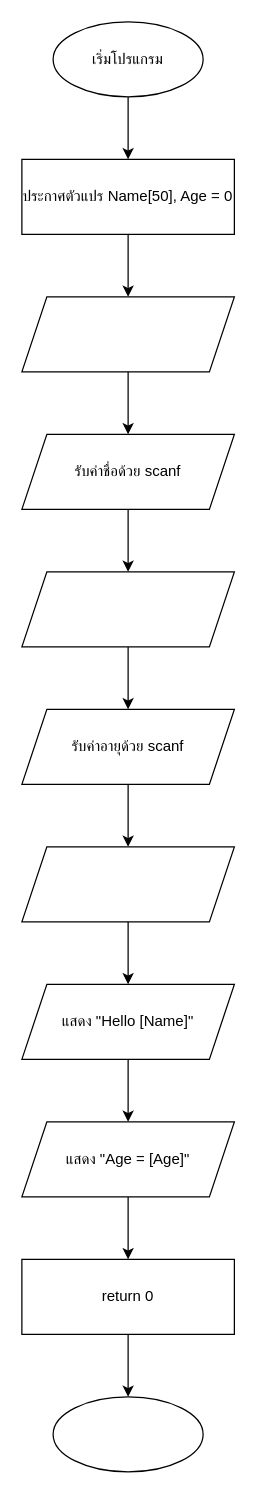
Some shapes in this 256 by 1494 pixel diagram are drawn without their labels. The centre of each missing label's shape, as x and y in pixels:
จบโปรแกรม: the point at 127,1434
แสดง "- - - - - -": the point at 127,884
แสดง "Enter your age: ": the point at 127,609
แสดง "Enter your name: ": the point at 127,334
